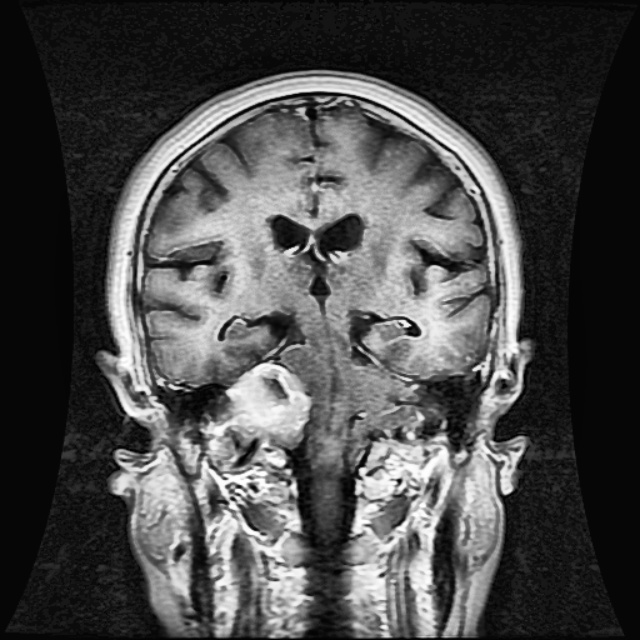Glioma: (202, 364, 309, 448)
